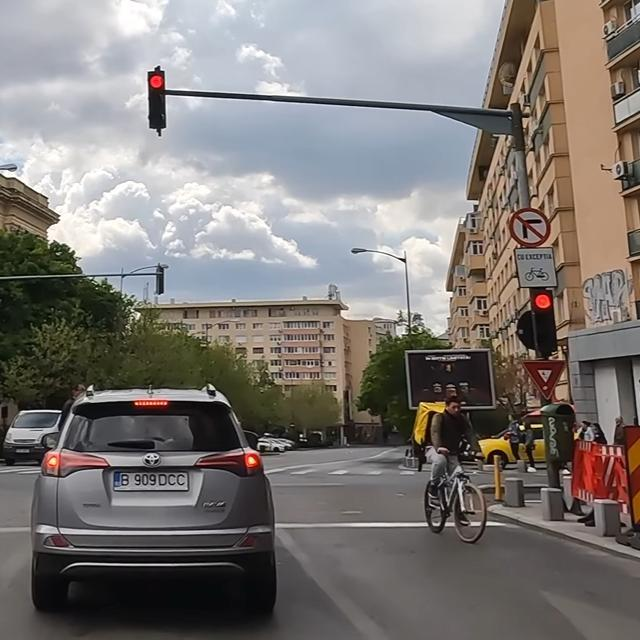prio_give_way: (523, 359, 564, 399)
